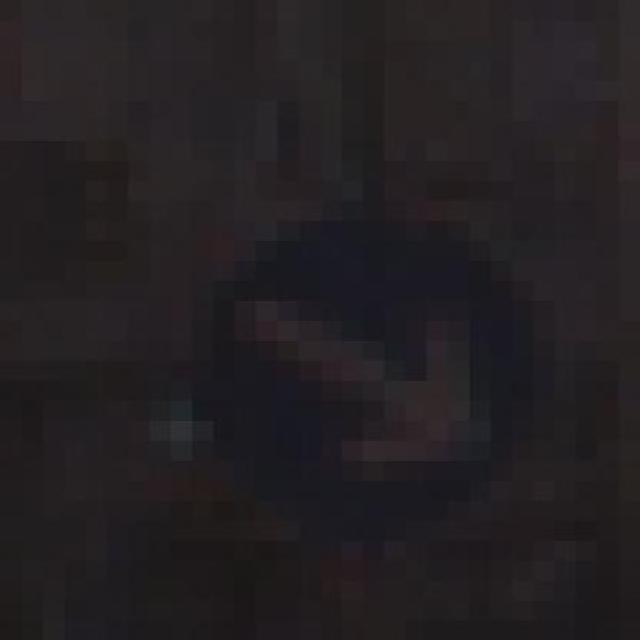Keep-Right: (150, 160, 556, 540)
